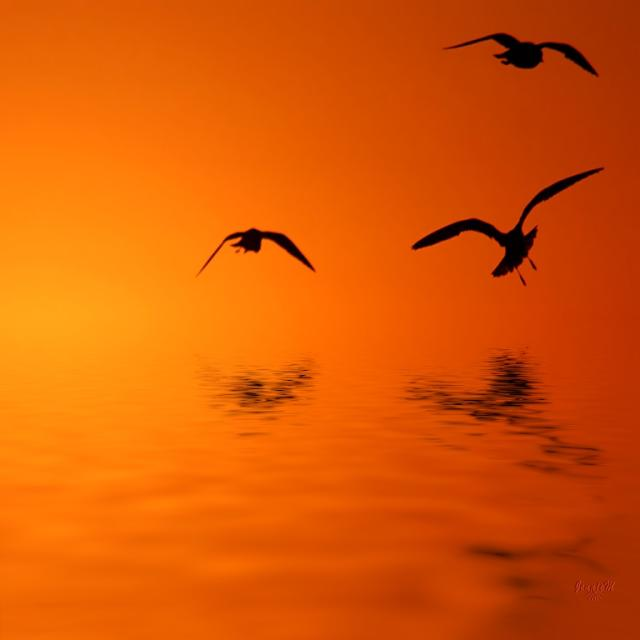bird: (409, 176, 607, 283), (439, 31, 598, 83), (193, 229, 316, 289)
